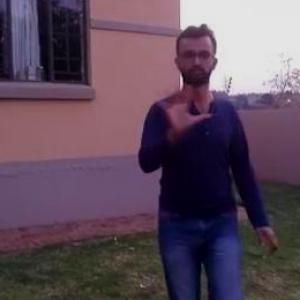follow_hand: (157, 80, 212, 132)
